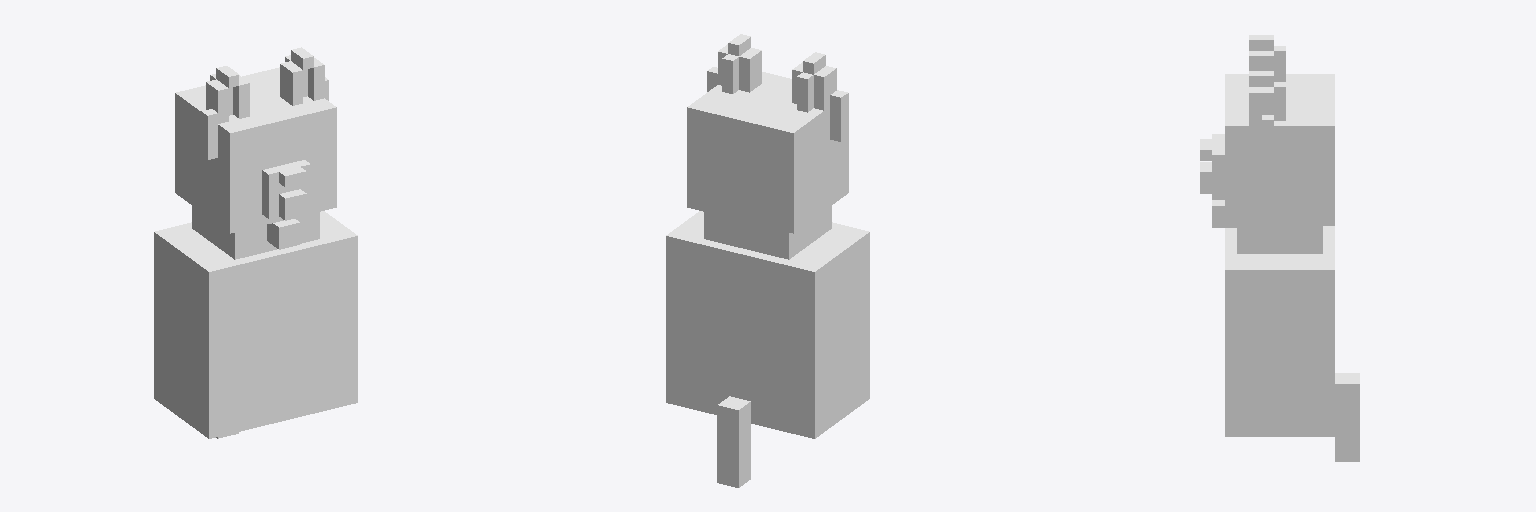
The model's file is Bastet-4.obj.
The picture shows the model from 3 angles: view 1: azimuth 30°, elevation 25°; view 2: azimuth 150°, elevation 25°; view 3: azimuth 270°, elevation 25°; orthographic projection.
Parts seen in each view (by area): view 1: object 1; view 2: object 1; view 3: object 1.
Boxes of the visible parts, x1,y1,x2,y2 form: object 1: [154, 47, 357, 438]; object 1: [666, 34, 869, 487]; object 1: [1200, 35, 1359, 461].
Bounding box in the file's own units: 1.4 × 3.6 × 1.3.